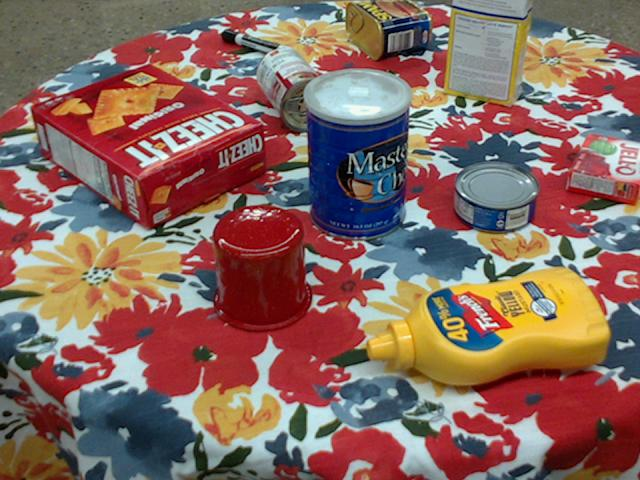cracker_box: (33, 64, 266, 227)
gelatin_box: (566, 134, 639, 205)
large_marker: (222, 28, 293, 59)
master_chef_can: (302, 67, 410, 241)
mug: (210, 203, 313, 332)
mustard_bottle: (368, 263, 612, 384)
potted_meat_can: (345, 0, 432, 58)
sugar_box: (443, 0, 534, 107)
tomato_soup_can: (255, 46, 335, 131)
tuna_fish_can: (455, 162, 540, 233)
